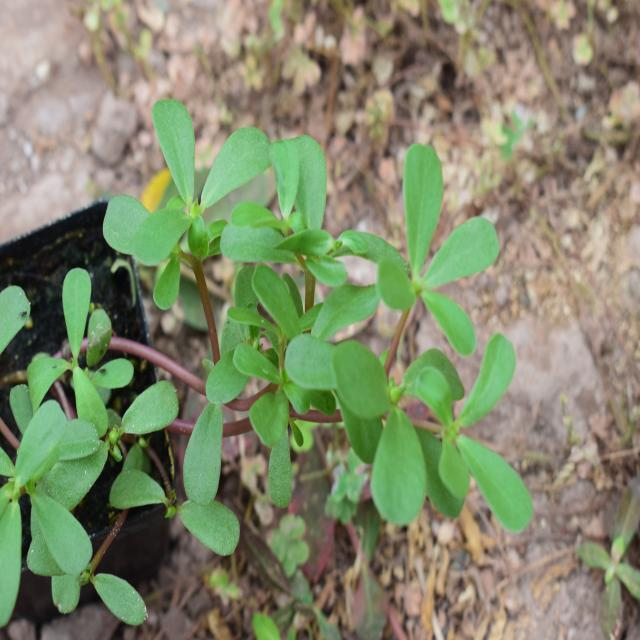purslane: (125, 82, 547, 542), (0, 249, 222, 614)
